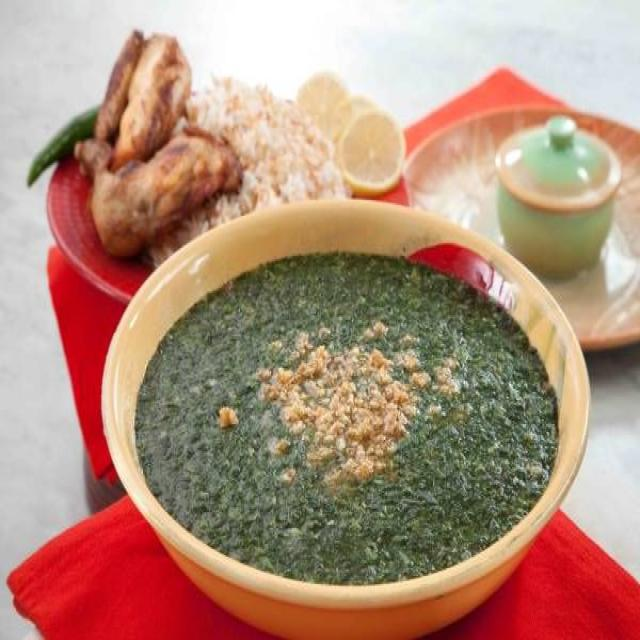Chicken: (65, 17, 232, 238)
Molokhya: (95, 231, 599, 640)
lemon: (298, 56, 414, 202)
